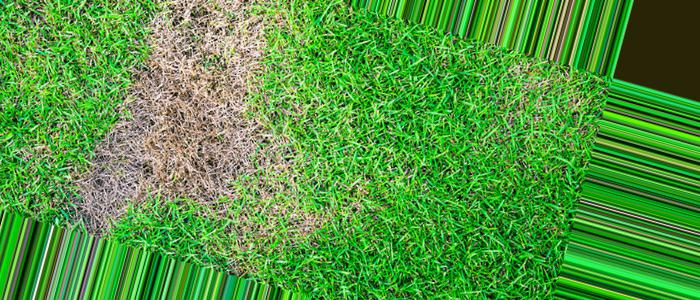patch: (115, 144, 273, 196), (152, 82, 267, 133), (174, 14, 257, 57)
